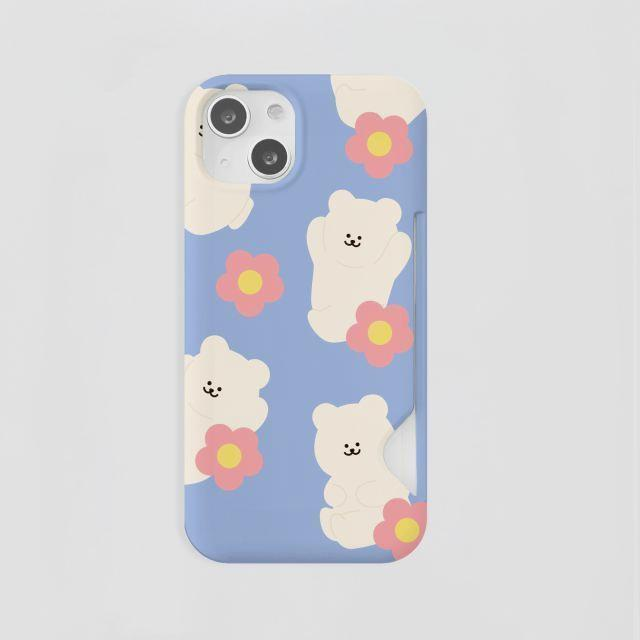phone: (178, 71, 436, 566)
